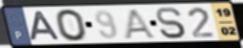2: (186, 6, 217, 39)
9: (94, 9, 119, 40)
A: (122, 7, 158, 39), (29, 10, 62, 42)
O: (54, 8, 89, 43)
S: (155, 6, 188, 40)
